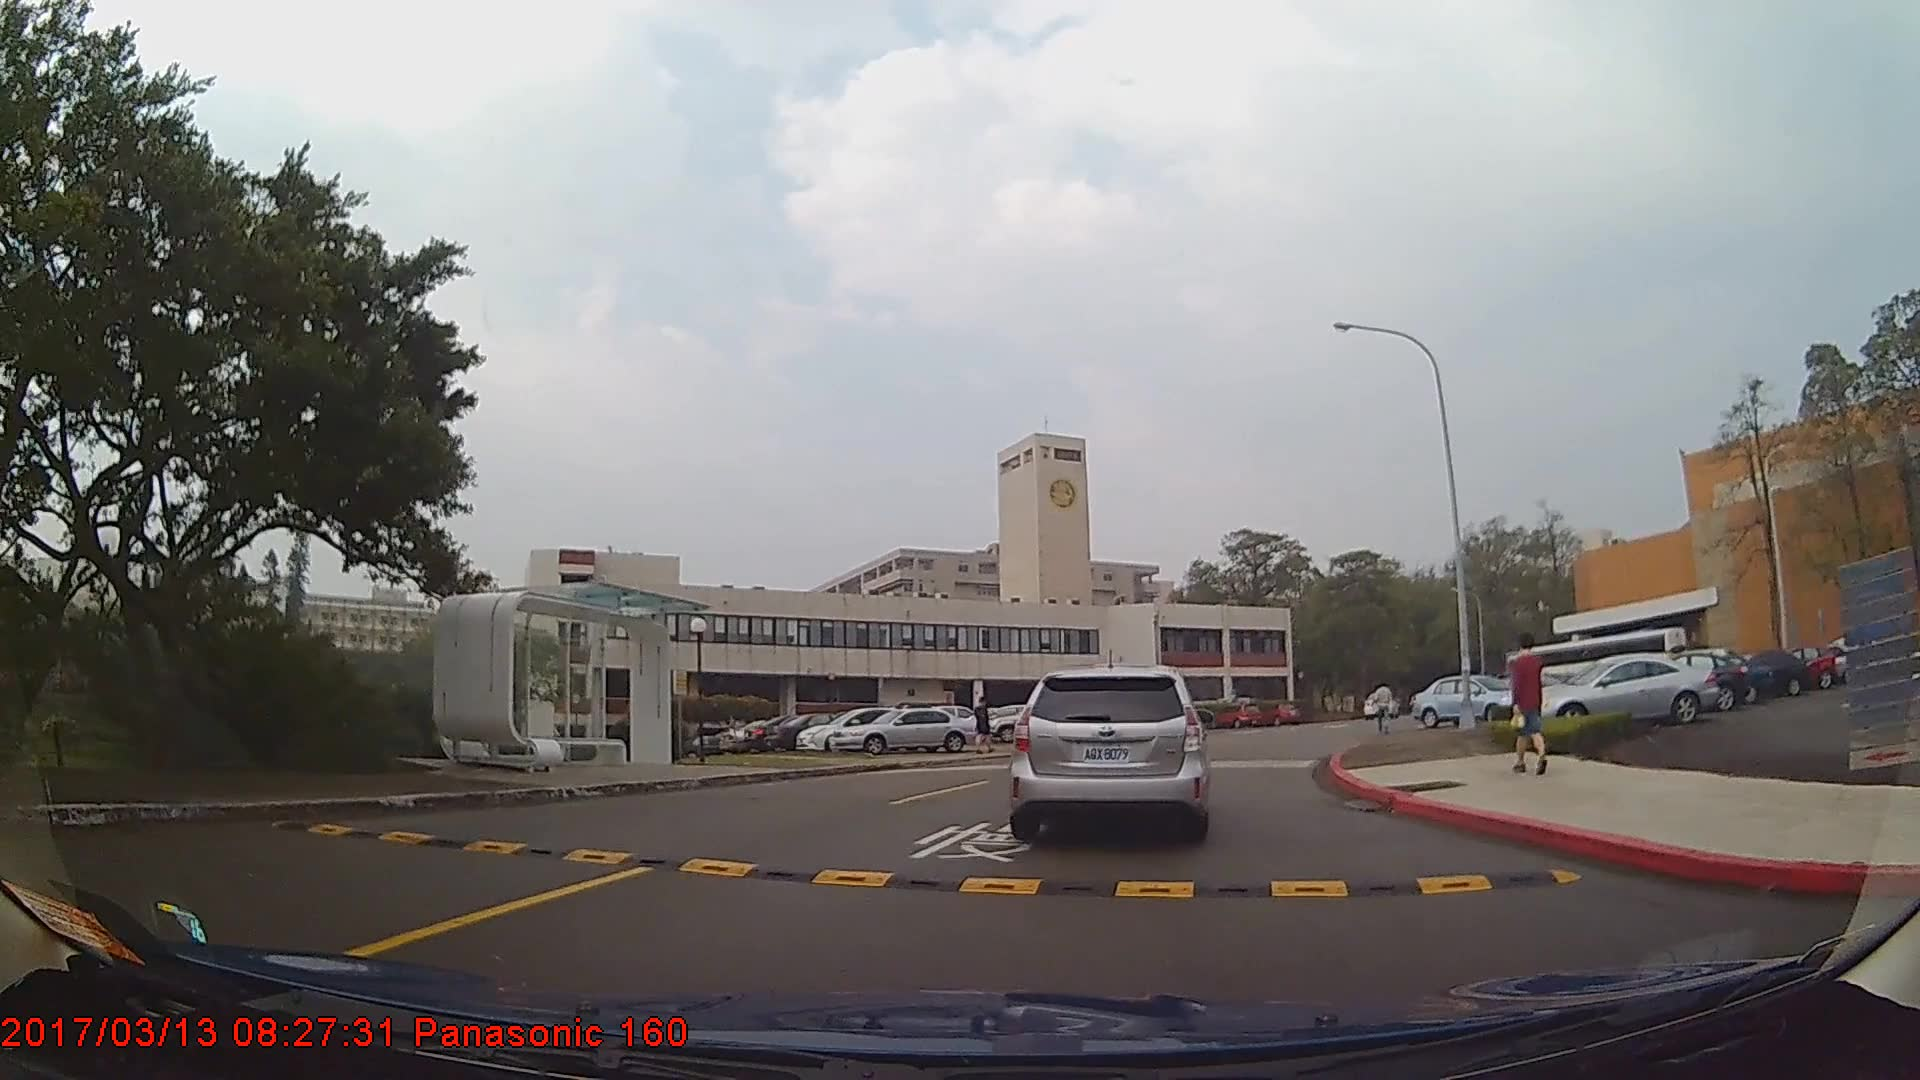pedestrian: (1505, 627, 1550, 770), (1369, 678, 1397, 735), (975, 697, 995, 755)
vehicle: (1011, 665, 1207, 838), (1535, 652, 1716, 726), (827, 706, 978, 754), (1630, 650, 1749, 711), (790, 703, 927, 749), (1407, 675, 1520, 726), (1665, 649, 1773, 701), (1709, 644, 1811, 694), (764, 711, 862, 750)
